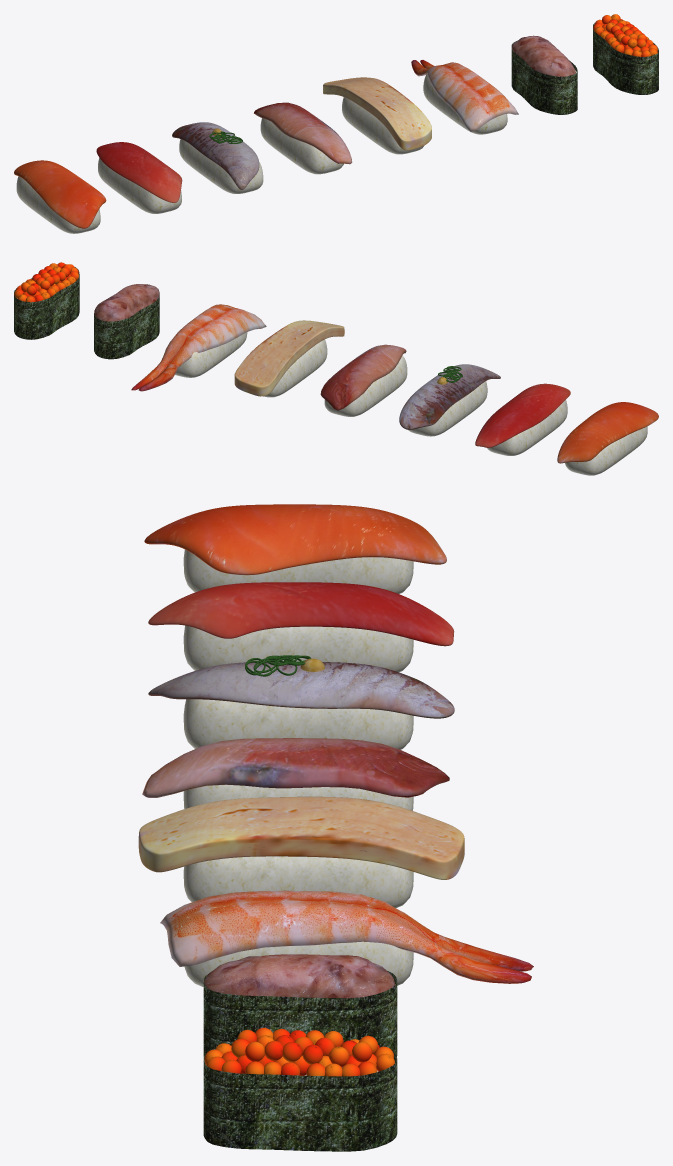
3 views of the same model, one above another, from view 1: azimuth 30°, elevation 25°; view 2: azimuth 150°, elevation 25°; view 3: azimuth 270°, elevation 25° (orthographic). The views are drawn at different scales.
Visible parts, largest first — view 1: negitoro, salmon_roe, egg_neta, shrimp_neta, tuna_neta, aji_neta, salmon_neta, hamachi_neta, hamachi, salmon, aji, egg (+2 smaller); view 2: salmon_roe, negitoro, egg_neta, shrimp_neta, tuna_neta, aji_neta, salmon_neta, hamachi_neta, hamachi, tuna, salmon, aji (+2 smaller); view 3: salmon_roe, egg_neta, shrimp_neta, negitoro, tuna_neta, hamachi_neta, salmon_neta, aji_neta, egg, aji, salmon, tuna (+2 smaller).
Boxes of the visible parts, left/top/right/bottom form: negitoro: left=511, top=35, right=577, bottom=114; salmon_roe: left=593, top=14, right=658, bottom=94; egg_neta: left=323, top=77, right=431, bottom=150; shrimp_neta: left=411, top=60, right=518, bottom=131; tuna_neta: left=14, top=160, right=106, bottom=228; aji_neta: left=172, top=122, right=259, bottom=189; salmon_neta: left=96, top=142, right=182, bottom=202; hamachi_neta: left=254, top=102, right=352, bottom=164; hamachi: left=260, top=118, right=343, bottom=174; salmon: left=98, top=158, right=181, bottom=213; aji: left=179, top=139, right=263, bottom=193; egg: left=342, top=97, right=424, bottom=154; salmon_roe: left=14, top=262, right=79, bottom=339; negitoro: left=94, top=284, right=159, bottom=359; egg_neta: left=234, top=320, right=344, bottom=396; shrimp_neta: left=131, top=304, right=266, bottom=391; tuna_neta: left=557, top=402, right=658, bottom=463; aji_neta: left=399, top=364, right=500, bottom=429; salmon_neta: left=475, top=383, right=570, bottom=447; hamachi_neta: left=320, top=344, right=406, bottom=410; hamachi: left=324, top=355, right=407, bottom=416; tuna: left=565, top=426, right=647, bottom=475; salmon: left=487, top=400, right=567, bottom=455; aji: left=408, top=381, right=487, bottom=436; salmon_roe: left=203, top=1027, right=397, bottom=1151; egg_neta: left=138, top=796, right=464, bottom=879; shrimp_neta: left=160, top=890, right=533, bottom=983; negitoro: left=203, top=954, right=397, bottom=1056; tuna_neta: left=144, top=504, right=446, bottom=575; hamachi_neta: left=142, top=738, right=449, bottom=797; salmon_neta: left=148, top=582, right=454, bottom=646; aji_neta: left=148, top=655, right=454, bottom=718; egg: left=183, top=856, right=413, bottom=907; aji: left=183, top=699, right=413, bottom=749; salmon: left=183, top=625, right=413, bottom=672; tuna: left=183, top=549, right=413, bottom=593.
Size of the model in its own units: 1502 by 116 by 427.
9 materials, 9 textured.
